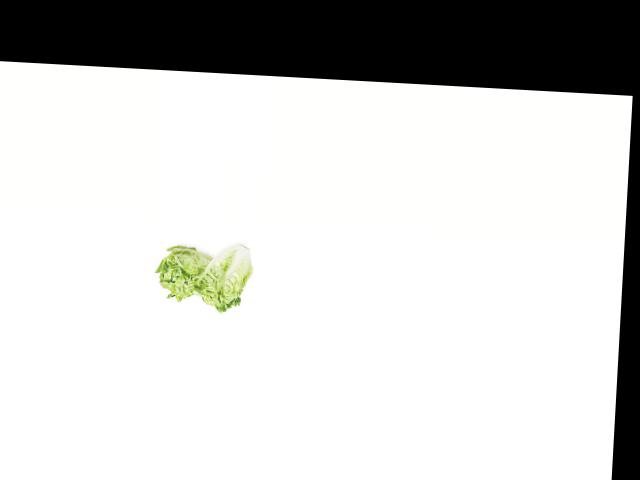lettuce: (154, 236, 218, 304)
